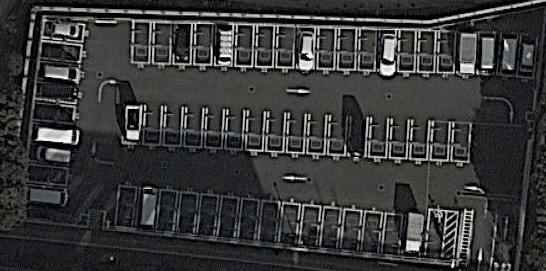parkingspot: (112, 179, 448, 263), (129, 18, 539, 83), (119, 99, 473, 168), (22, 16, 90, 209)
